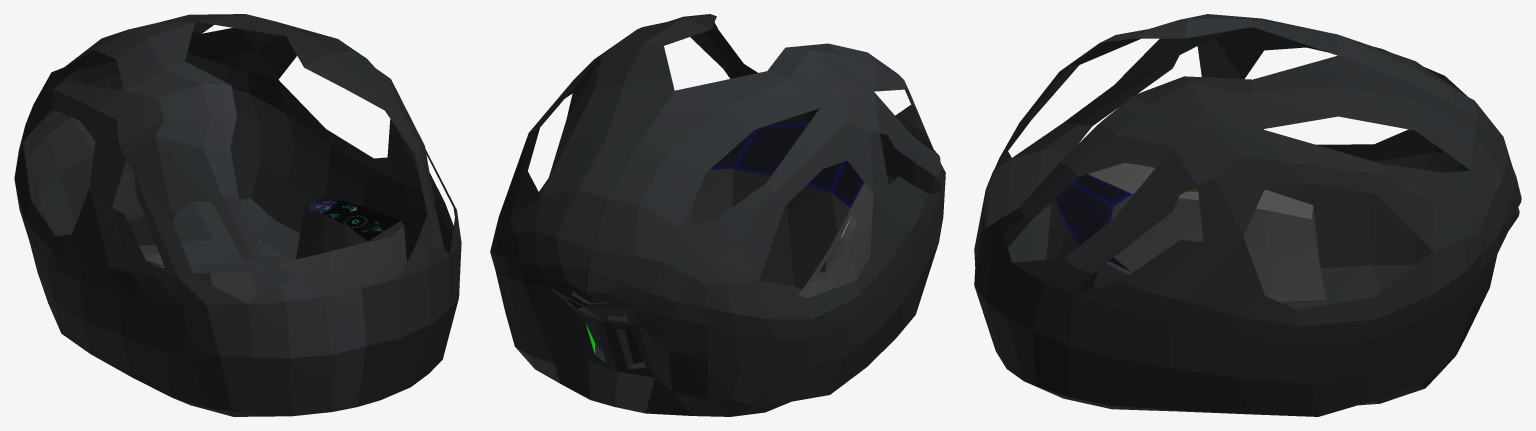
Rendered from cockpitBeta V2.1.fbx.
3 views of the same model, side by side, from view 1: azimuth 30°, elevation 25°; view 2: azimuth 150°, elevation 25°; view 3: azimuth 270°, elevation 25° (orthographic). The views are drawn at different scales.
Parts seen in each view (by area): view 1: top.001; view 2: top.001; view 3: top.001.
Boxes of the visible parts, box(x1,y1,x2,y2) form: top.001: box(14, 14, 461, 416); top.001: box(490, 14, 945, 416); top.001: box(974, 14, 1521, 416).
Size of the model in its own units: 285 by 239 by 391.
Materials: 1 (1 with a texture image).
